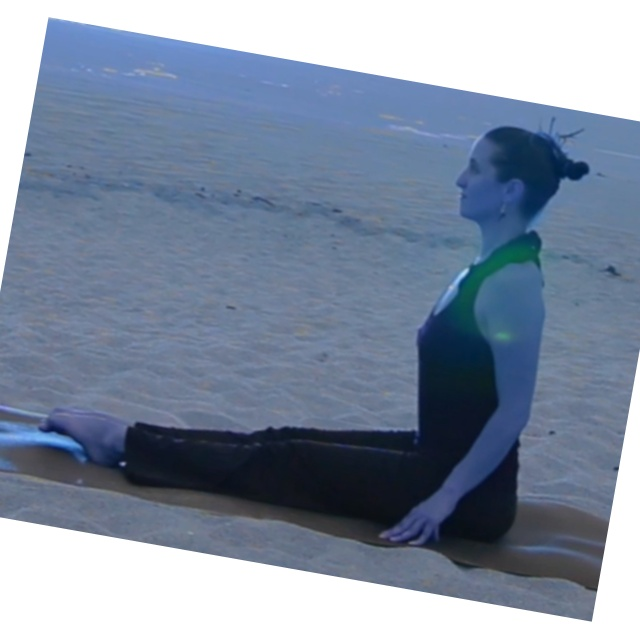Staff_Pose: (38, 125, 561, 553)
